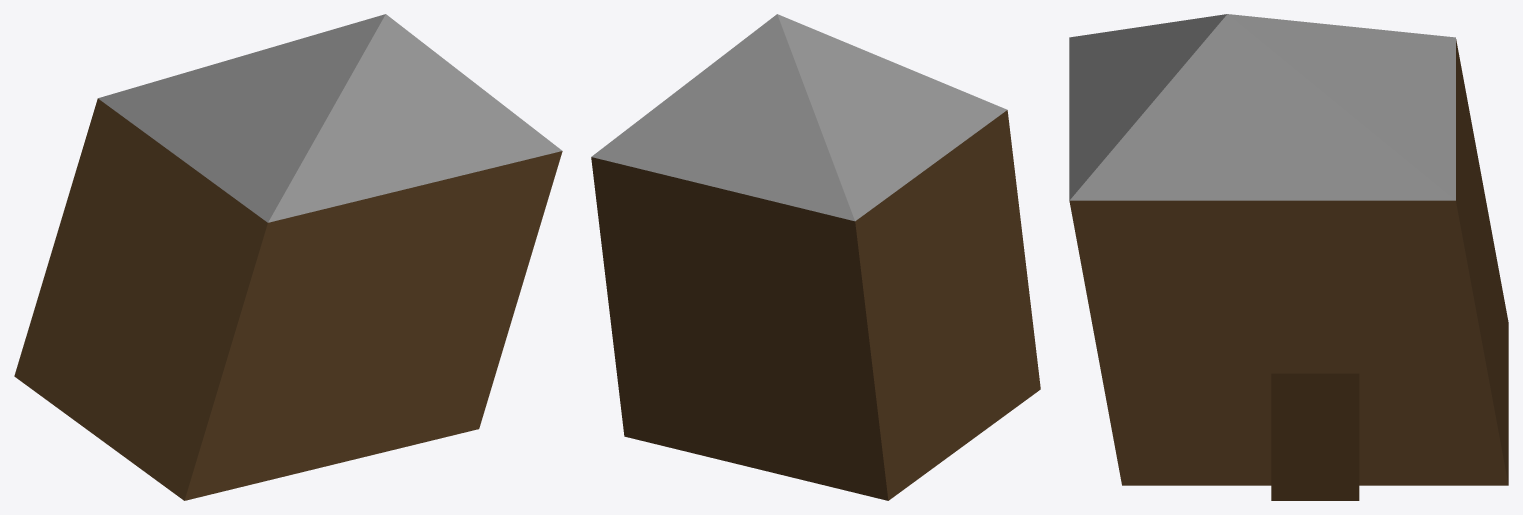
Rendered from crooked_house.obj.
The picture shows the model from 3 angles, left to right: view 1: azimuth 30°, elevation 25°; view 2: azimuth 150°, elevation 25°; view 3: azimuth 270°, elevation 25°; orthographic projection. The views are drawn at different scales.
Bounding box in the file's own units: 5.3 × 5.6 × 5.
